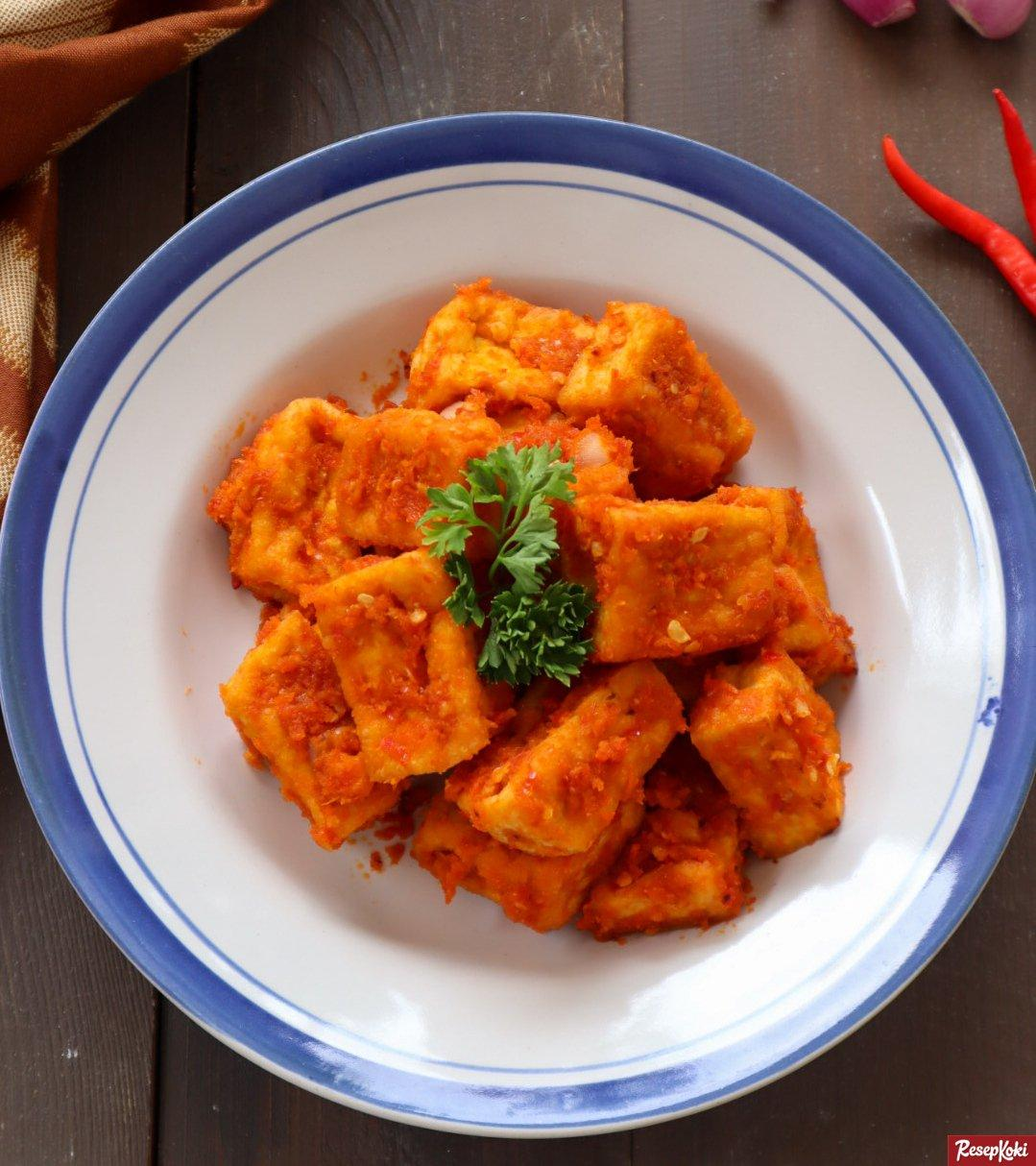kacang_legume: (282, 417, 728, 847)
